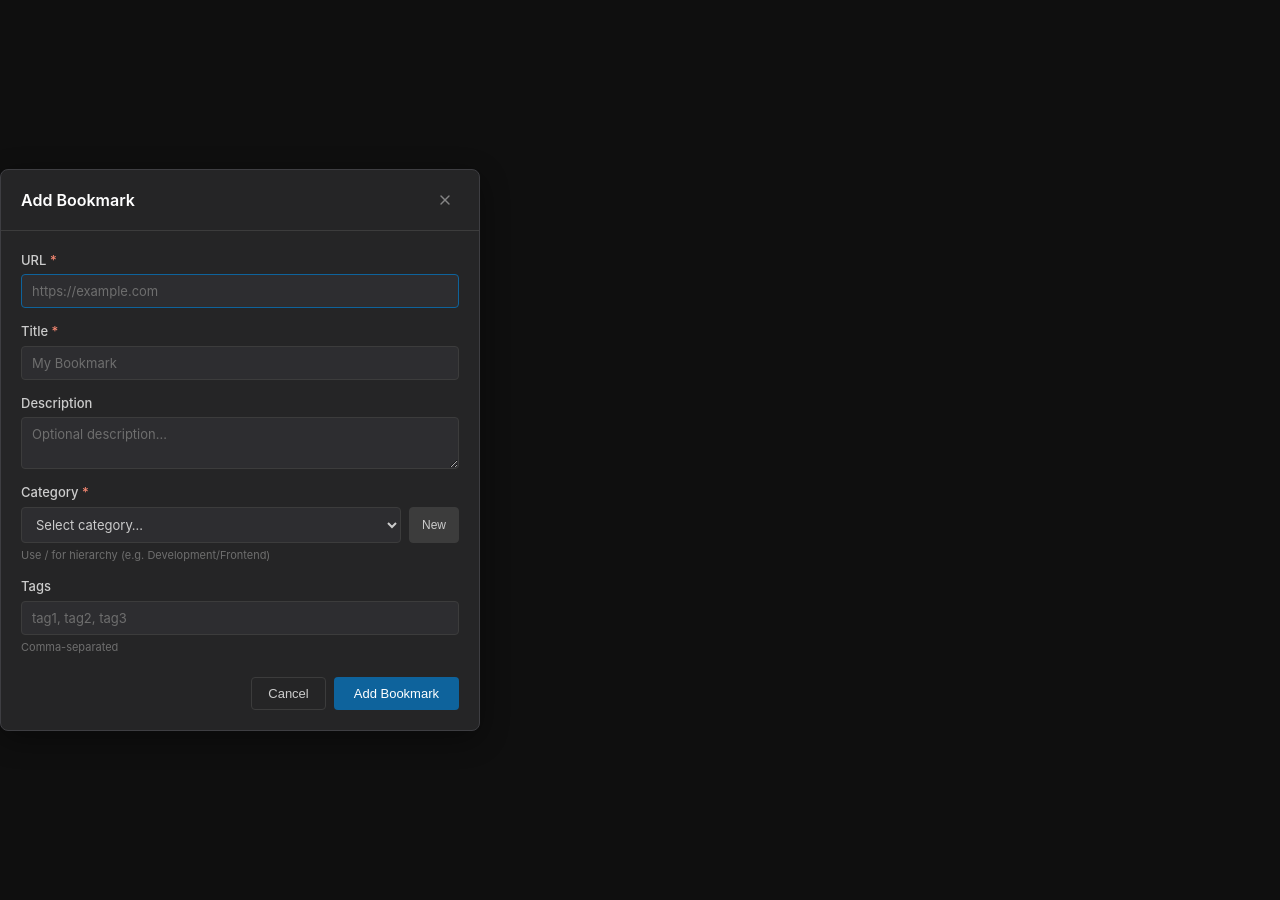
Test: BookmarkDialog › allows switching back to existing category mode
Step 1. Click the button "New" → (434,525), box [409,507,459,543]
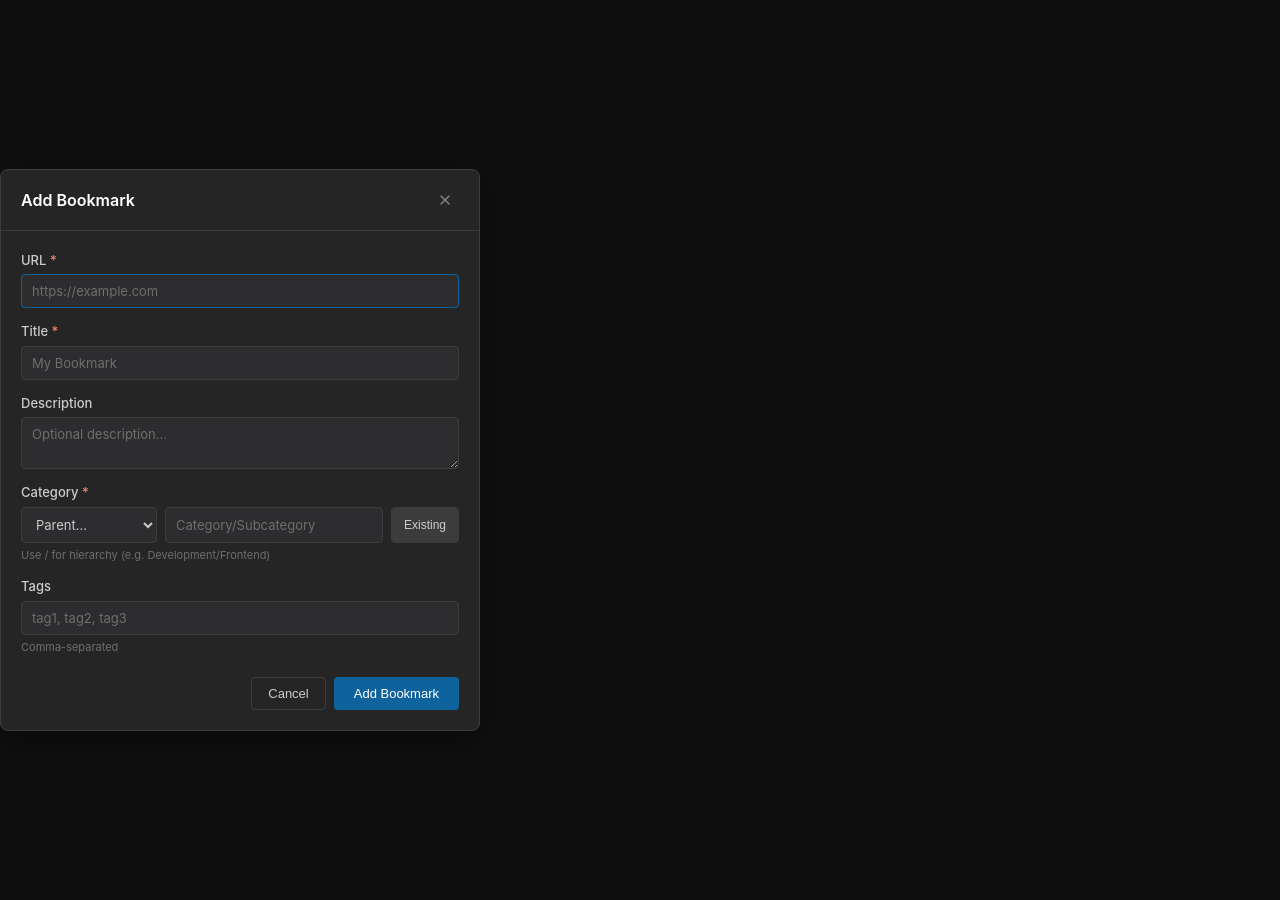
Expected: the button "Existing" is shown
Step 2. Click the button "Existing" → (425,525), box [391,507,459,543]
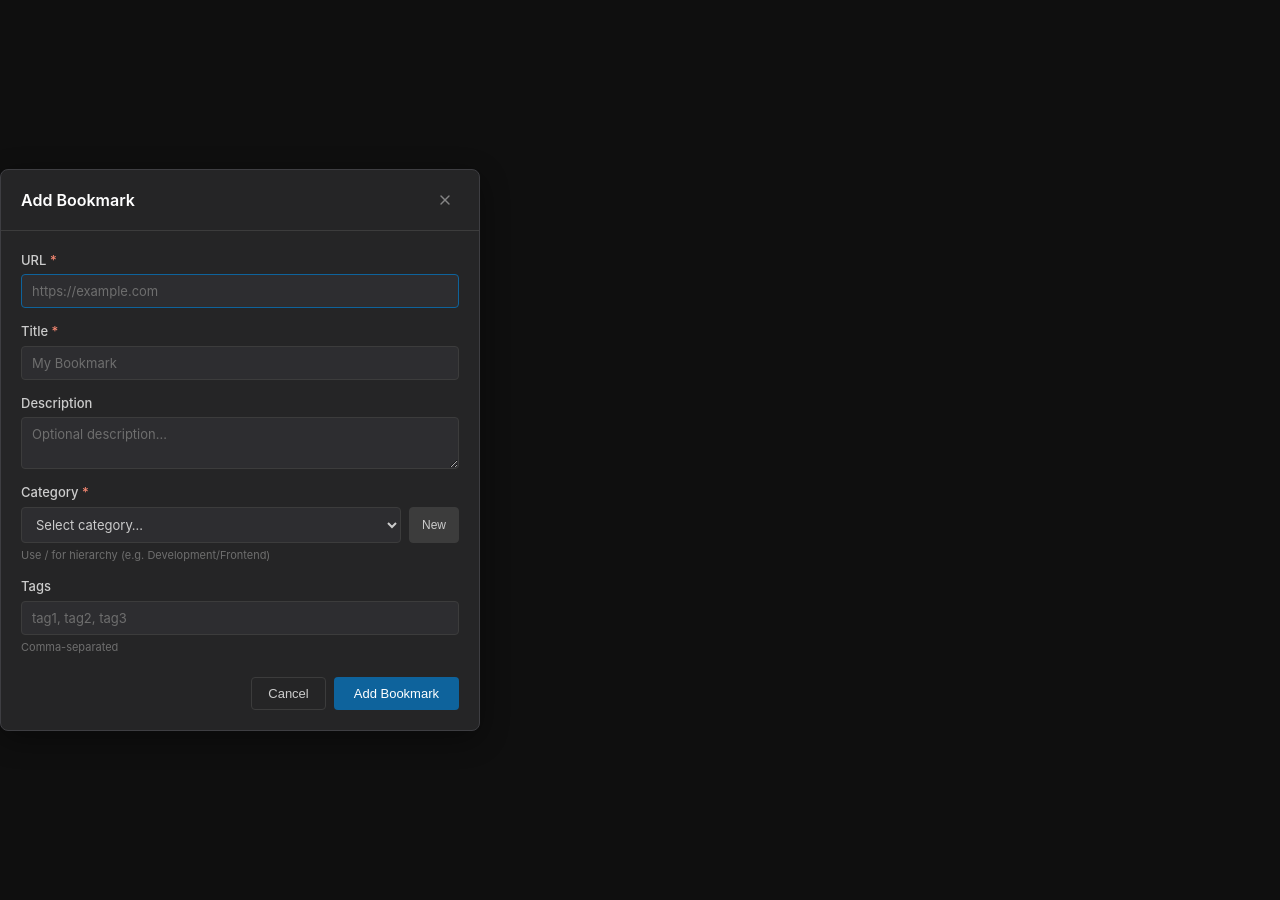
Expected: the dropdown showing "Select category…" is shown, [21,507,401,543]
